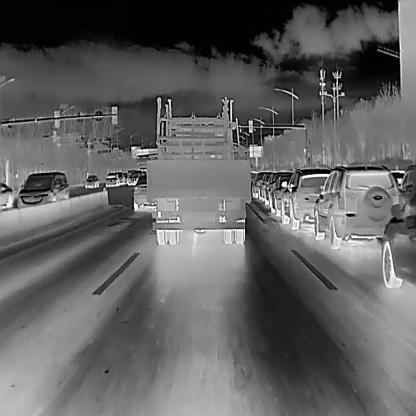car: (144, 114, 251, 244), (313, 165, 399, 249), (381, 182, 416, 288), (278, 166, 333, 231), (15, 168, 69, 210), (270, 171, 298, 217), (263, 169, 285, 207), (132, 174, 153, 213), (126, 169, 140, 186), (105, 170, 118, 188), (83, 174, 99, 188)
